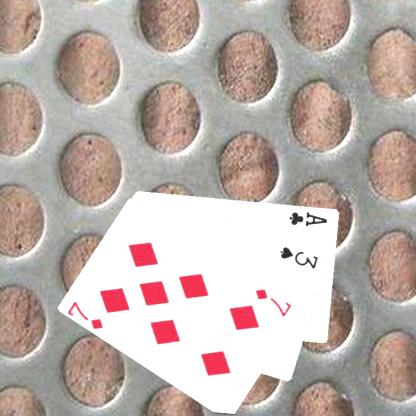3S: (277, 244, 320, 270)
7D: (252, 286, 292, 318), (66, 298, 105, 330)
AC: (287, 209, 329, 227)
